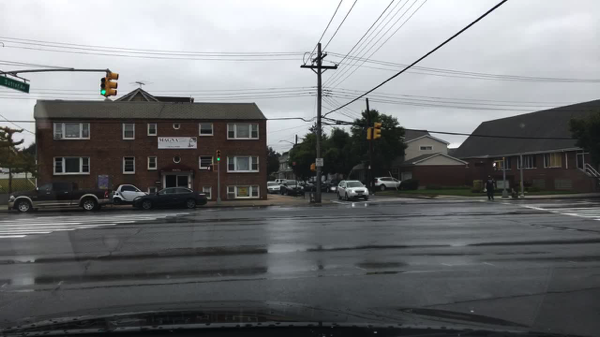car: (7, 180, 106, 211), (132, 186, 207, 210), (113, 185, 148, 206), (337, 180, 369, 201), (371, 176, 401, 191), (281, 180, 299, 195), (305, 181, 324, 194), (320, 180, 337, 192), (266, 181, 281, 194), (299, 181, 308, 191), (274, 178, 286, 184)
person: (484, 174, 495, 201)
traffic light: (109, 72, 118, 96), (373, 121, 381, 139), (100, 77, 107, 97), (365, 128, 373, 140), (308, 163, 316, 172), (491, 161, 498, 169), (216, 151, 220, 161), (206, 165, 212, 171)
traffic sign: (0, 76, 30, 93)
train: (316, 158, 324, 167), (292, 161, 298, 167)
